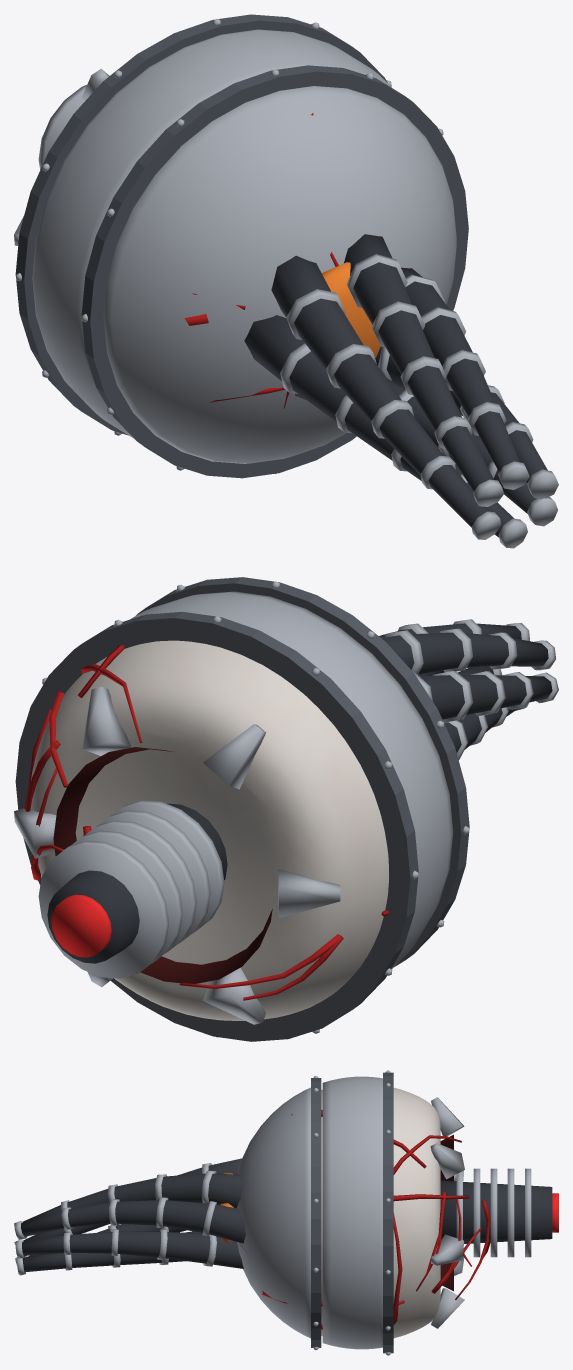
The model's file is retinazer_open.glb.
3 renders of one model, top to bottom at view 1: azimuth 30°, elevation 25°; view 2: azimuth 150°, elevation 25°; view 3: azimuth 270°, elevation 25°, orthographic. The views are drawn at different scales.
Visible parts, largest first — view 1: retinazer_open; view 2: retinazer_open; view 3: retinazer_open.
Part boxes in pixels (left/top/right/bottom): retinazer_open: left=14, top=14, right=558, bottom=548; retinazer_open: left=14, top=577, right=558, bottom=1041; retinazer_open: left=14, top=1070, right=558, bottom=1355.
Size of the model in its own units: 2.84 by 2.84 by 5.4.
